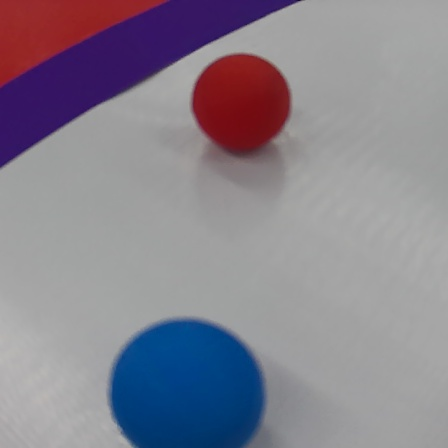blue: (106, 317, 280, 448)
red: (190, 49, 292, 159)
